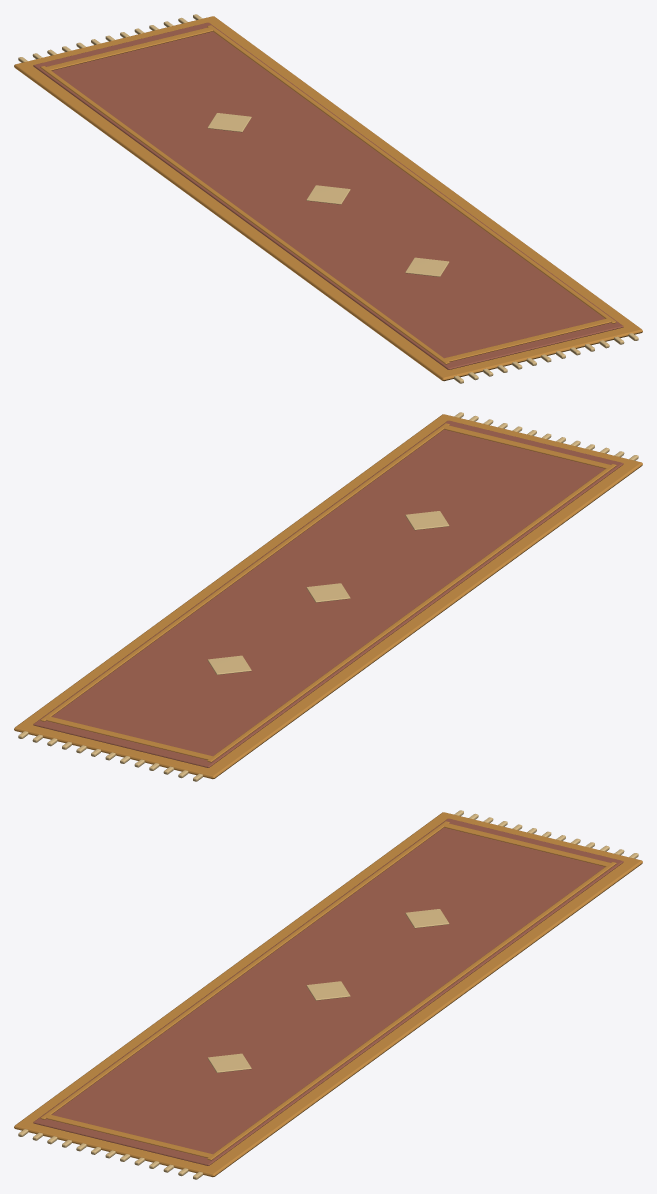
File: kitchen-runner.glb
3 views of the same model, one above another, from view 1: azimuth 30°, elevation 25°; view 2: azimuth 150°, elevation 25°; view 3: azimuth 330°, elevation 25° (orthographic).
Visible parts, largest first — view 1: kitchen_runner_pivot_Mesh; view 2: kitchen_runner_pivot_Mesh; view 3: kitchen_runner_pivot_Mesh.
Boxes of the visible parts, <box> form: kitchen_runner_pivot_Mesh: <box>14,14,642,383</box>; kitchen_runner_pivot_Mesh: <box>14,412,642,781</box>; kitchen_runner_pivot_Mesh: <box>14,810,642,1179</box>.
Bounding box in the file's own units: 1.53 × 0.048 × 5.84.
